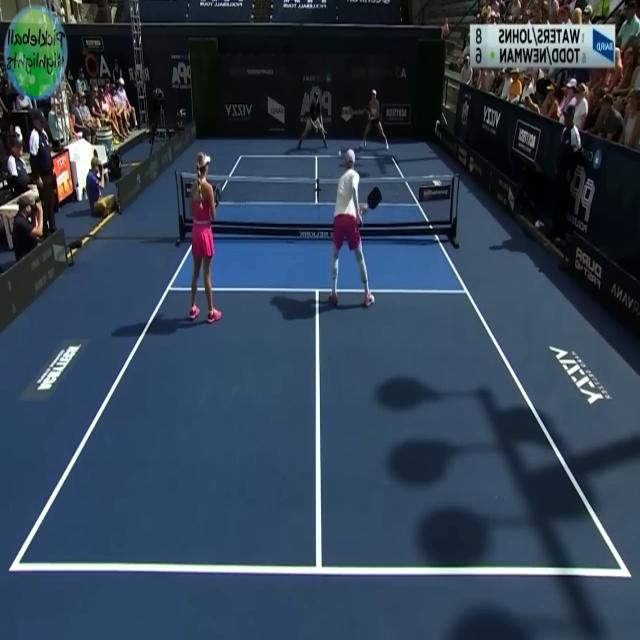Pickleball: (338, 150, 342, 158)
